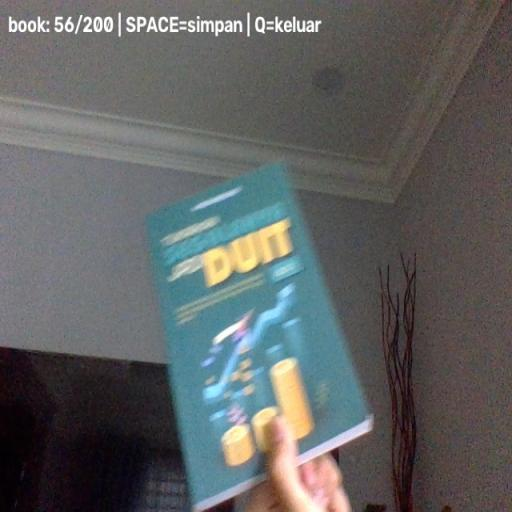Book: (144, 161, 374, 512)
